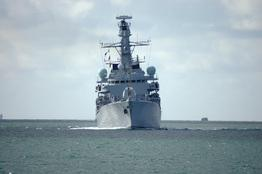warship: (87, 12, 164, 131)
